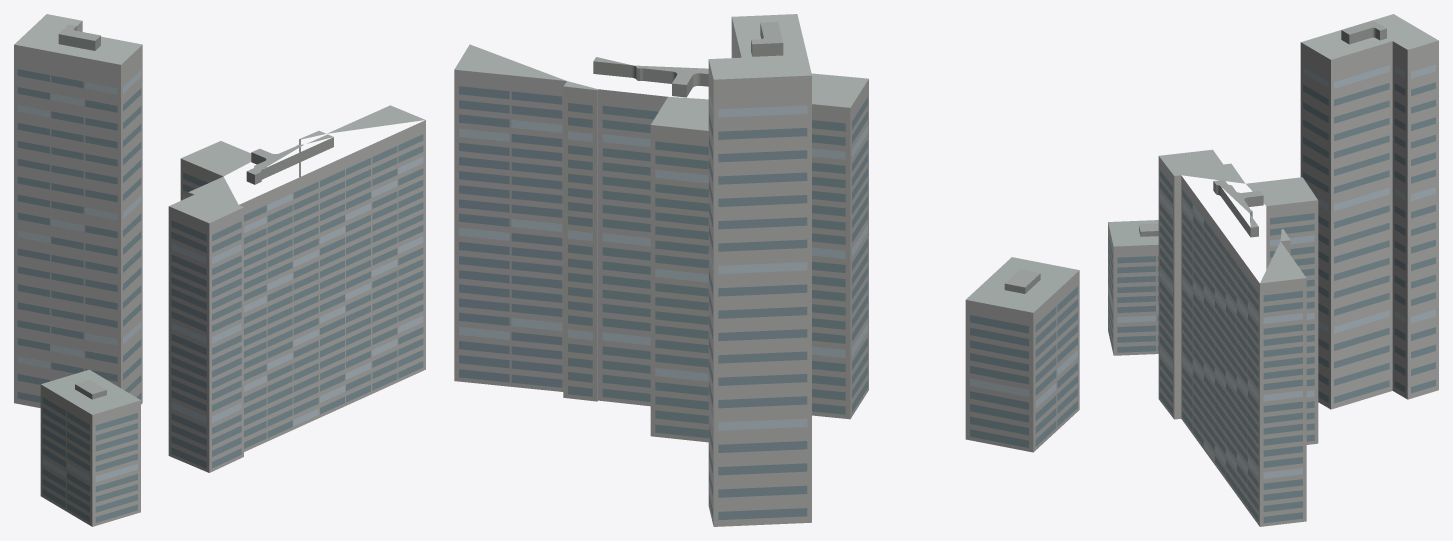
Rendered from apt-a15210104.glb.
3 renders of one model, left to right at view 1: azimuth 30°, elevation 25°; view 2: azimuth 150°, elevation 25°; view 3: azimuth 270°, elevation 25°, orthographic. The views are drawn at different scales.
Parts seen in each view (by area): view 1: apt-a15210104; view 2: apt-a15210104; view 3: apt-a15210104.
Boxes of the visible parts, bbox=[...] form: apt-a15210104: bbox=[14, 14, 425, 526]; apt-a15210104: bbox=[454, 14, 1079, 526]; apt-a15210104: bbox=[1108, 14, 1438, 526].
Bounding box in the file's own units: 105 × 88 × 73.37.
